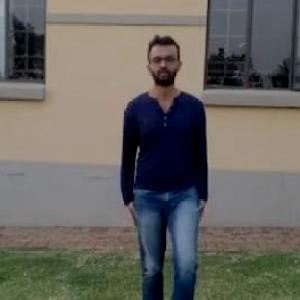follow: (127, 0, 256, 299), (119, 28, 214, 299)
